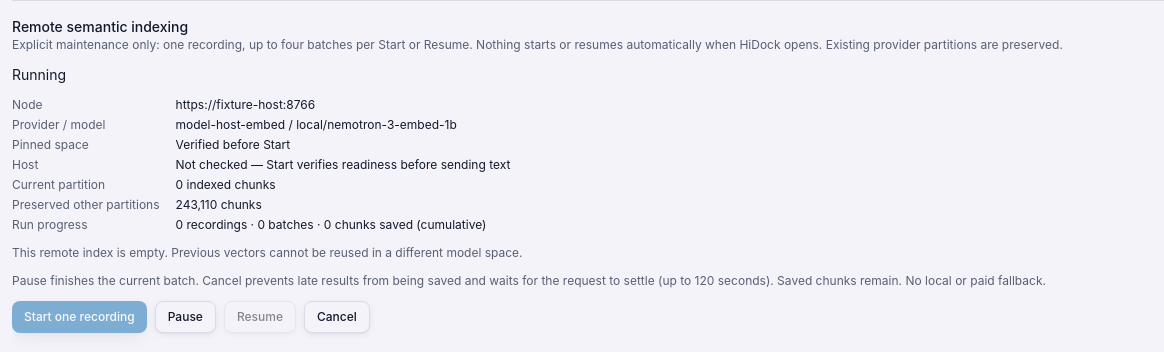
cancel waits for settlement instead of announcing cancellation complete
Expected: the text "Running" is shown, x1=12 y1=66 x2=66 y2=83
Click the button "Cancel". click: coordinates (337, 317)
box: x1=304 y1=301 x2=370 y2=333
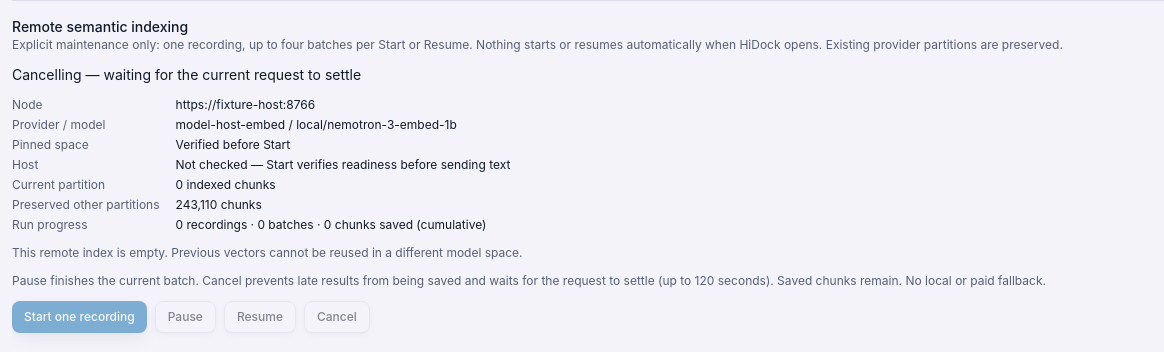
Expected: the button "Start one recording" is disabled, x1=12 y1=301 x2=147 y2=333
Expected: the text "Cancelling — waiting for the current request to settle" is shown, x1=12 y1=66 x2=361 y2=83
